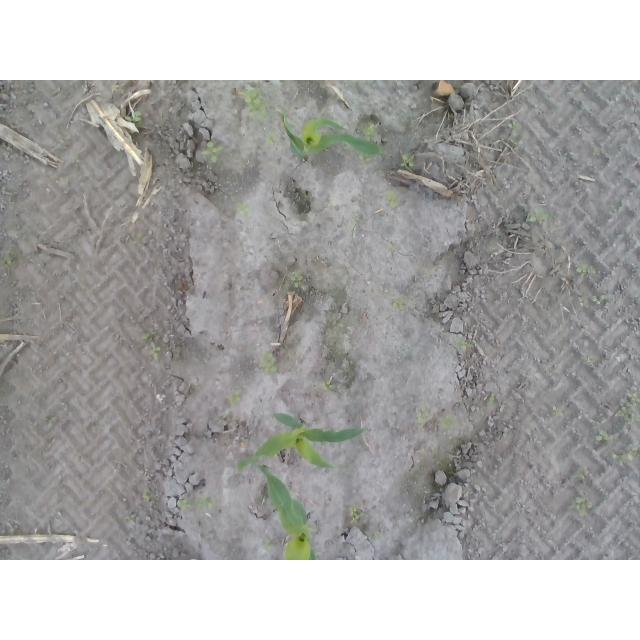Maize: (237, 403, 368, 470), (253, 460, 315, 561), (280, 111, 383, 161)
Weeds: (237, 87, 271, 122), (619, 386, 640, 422), (258, 350, 279, 375), (178, 496, 215, 510), (201, 141, 224, 163), (611, 450, 638, 467), (144, 336, 161, 361), (349, 504, 368, 524), (361, 126, 378, 143), (528, 210, 548, 224), (441, 413, 455, 431), (289, 270, 303, 287), (595, 429, 610, 443), (573, 496, 587, 511), (402, 153, 416, 168), (575, 263, 593, 273), (387, 190, 398, 206), (456, 338, 469, 350), (229, 390, 242, 402), (237, 205, 251, 216), (321, 381, 334, 392), (133, 110, 142, 125), (267, 133, 278, 145)
